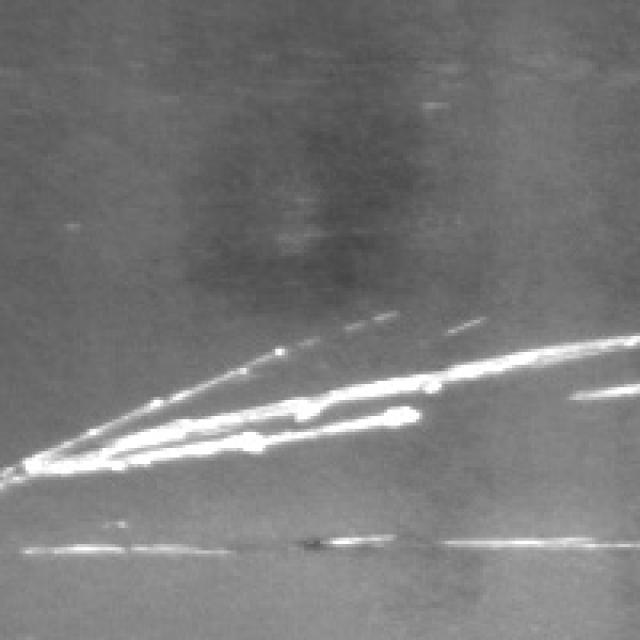scratches: (3, 320, 640, 483), (22, 518, 640, 564)
